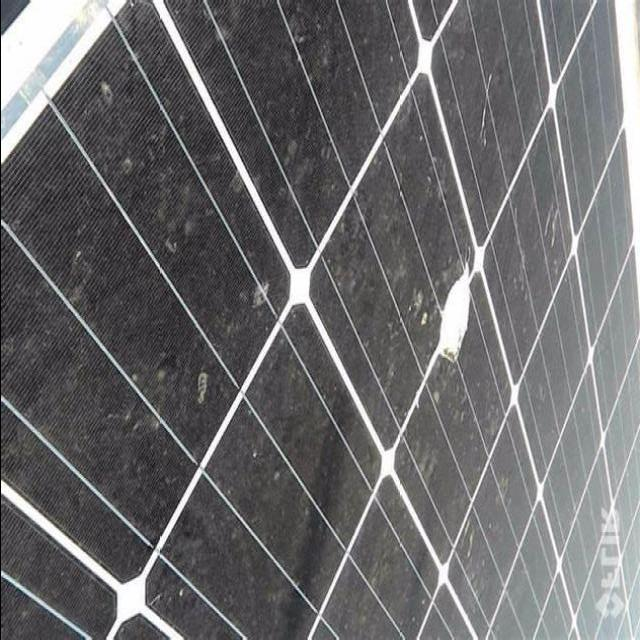soiled: (306, 69, 518, 526)
